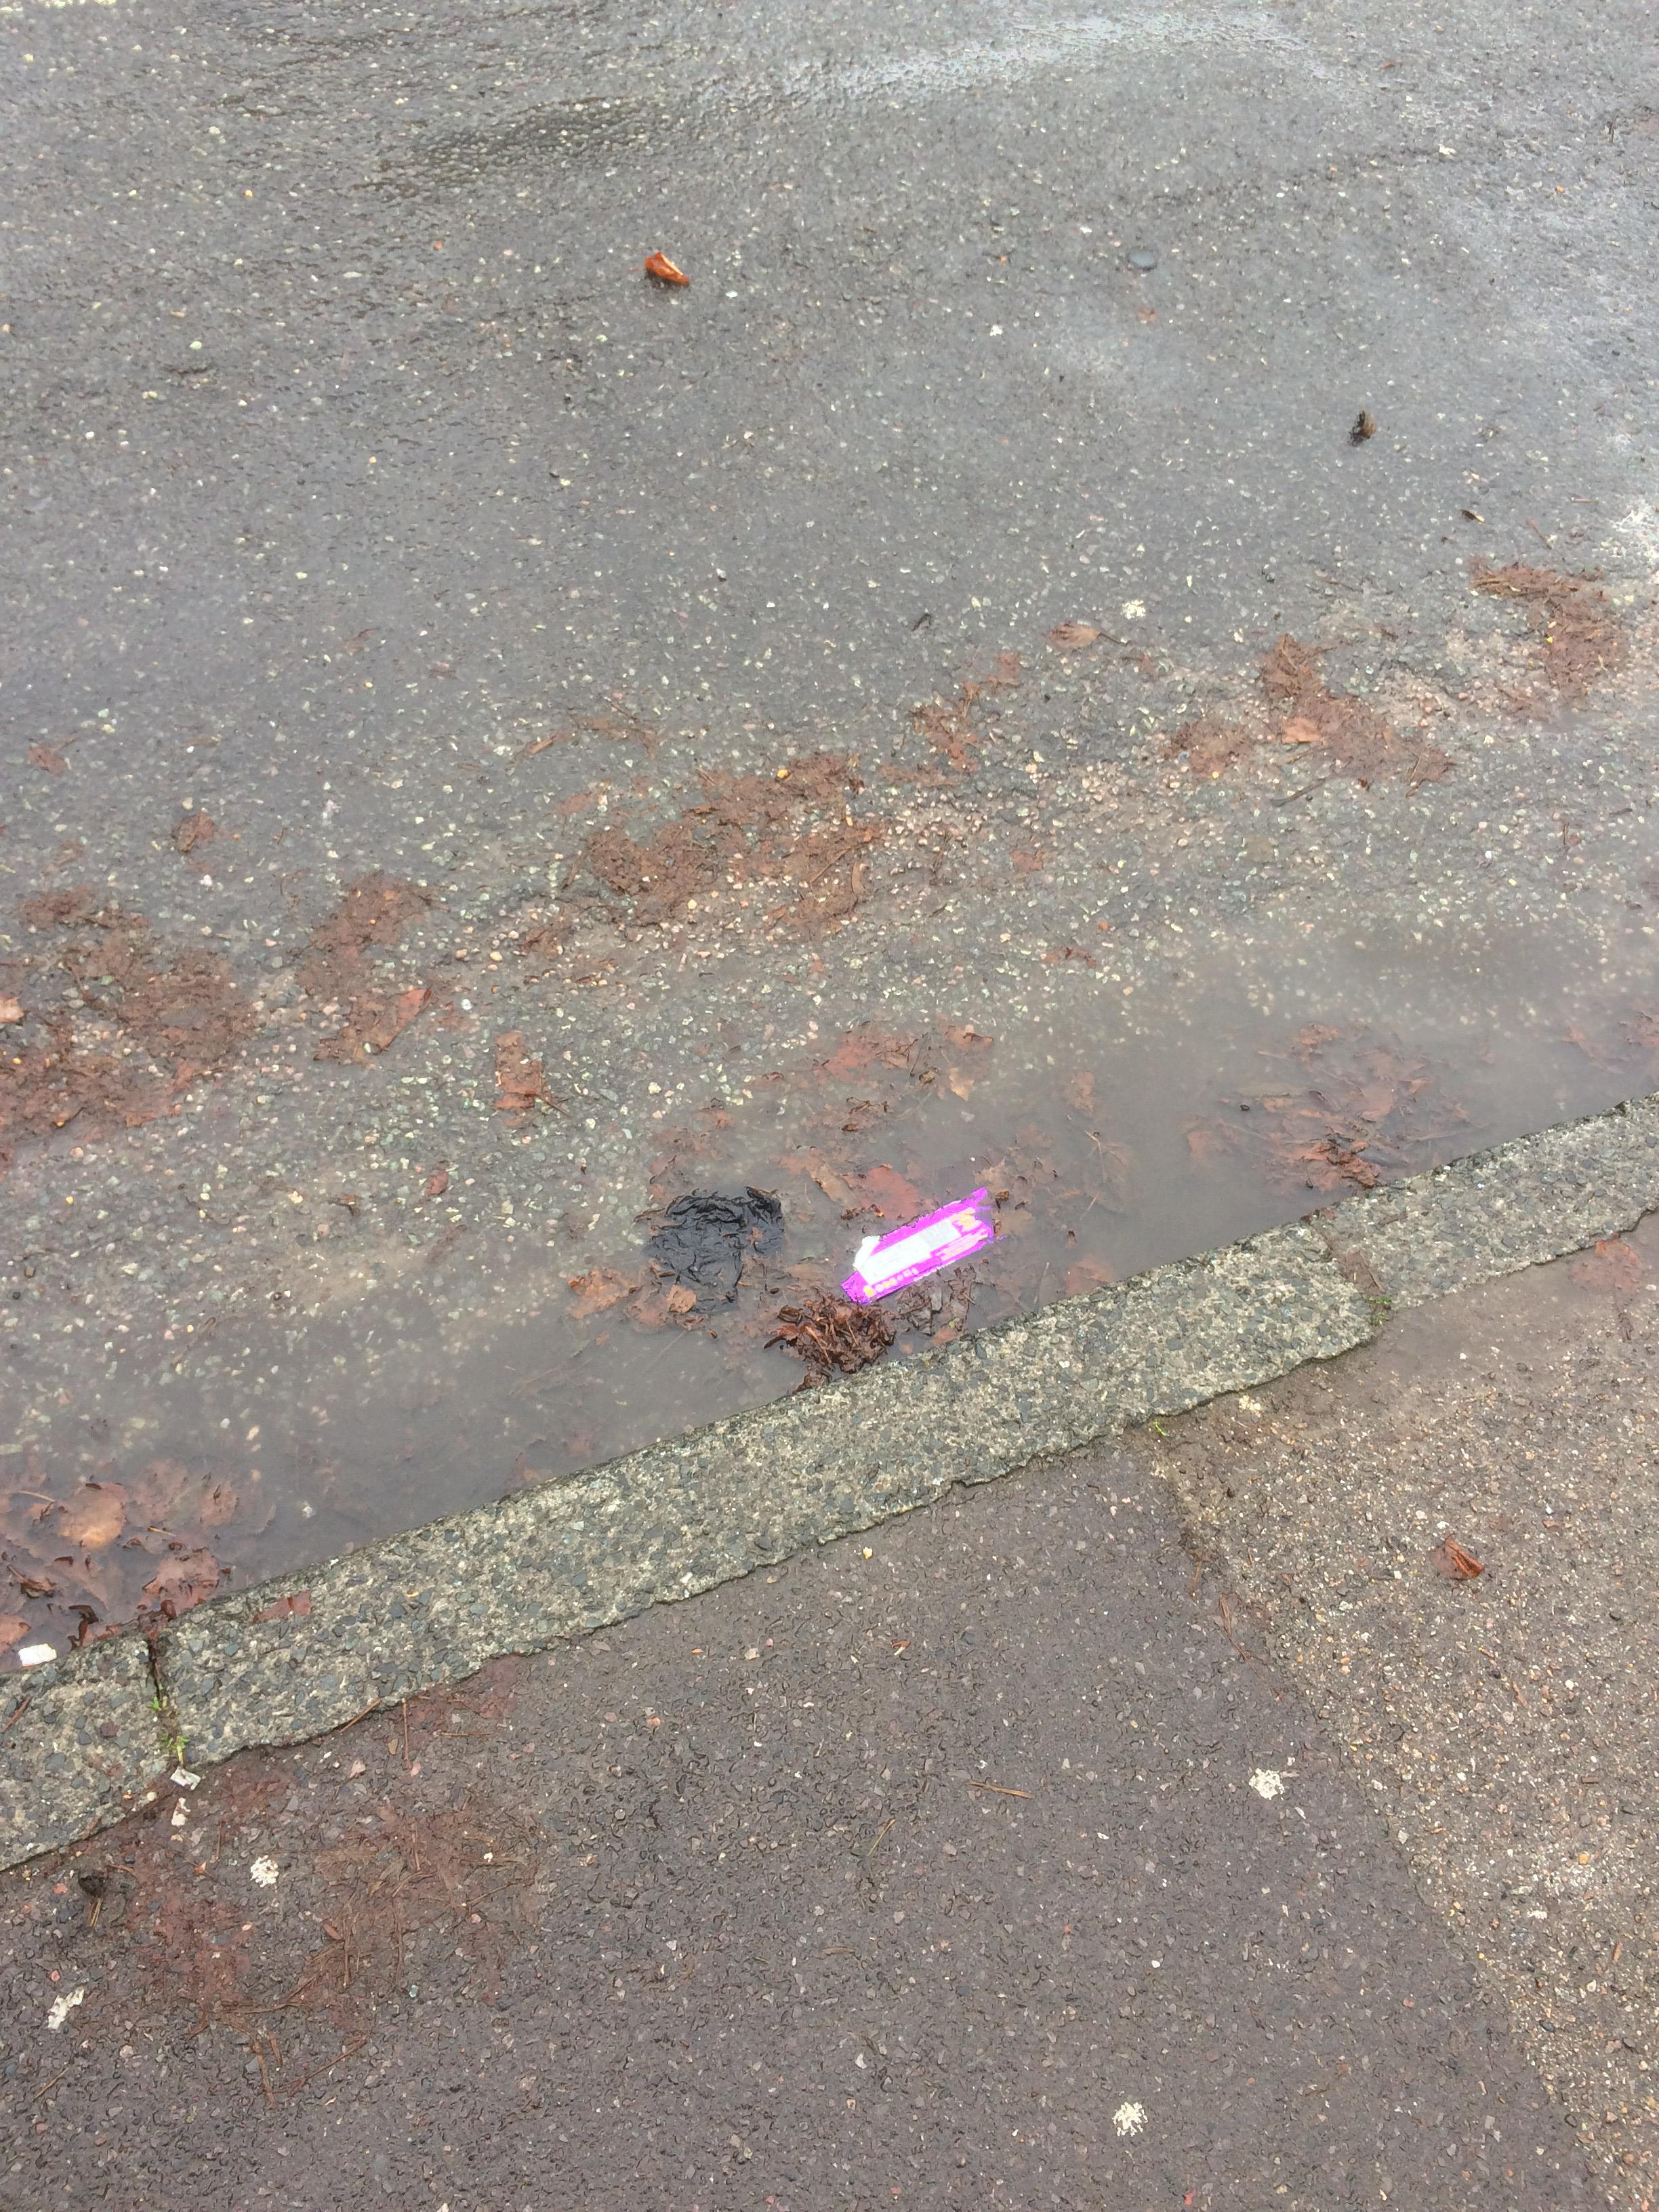Trash: (833, 1177, 1006, 1322)
